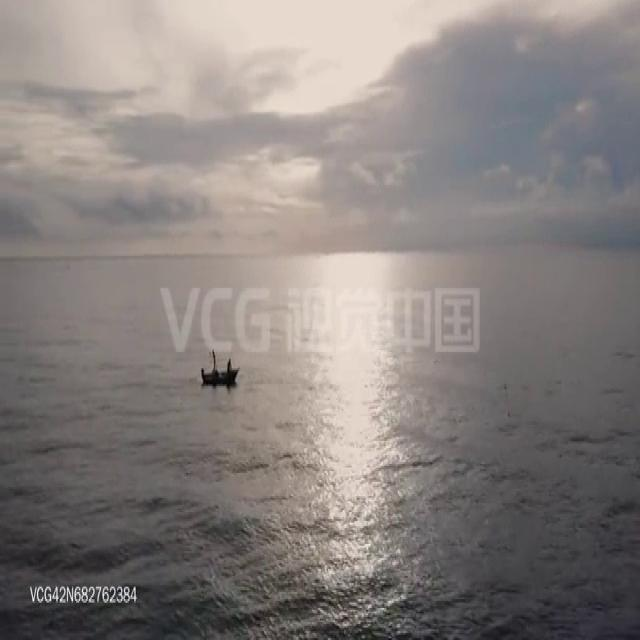fishing boat: (198, 343, 242, 385)
